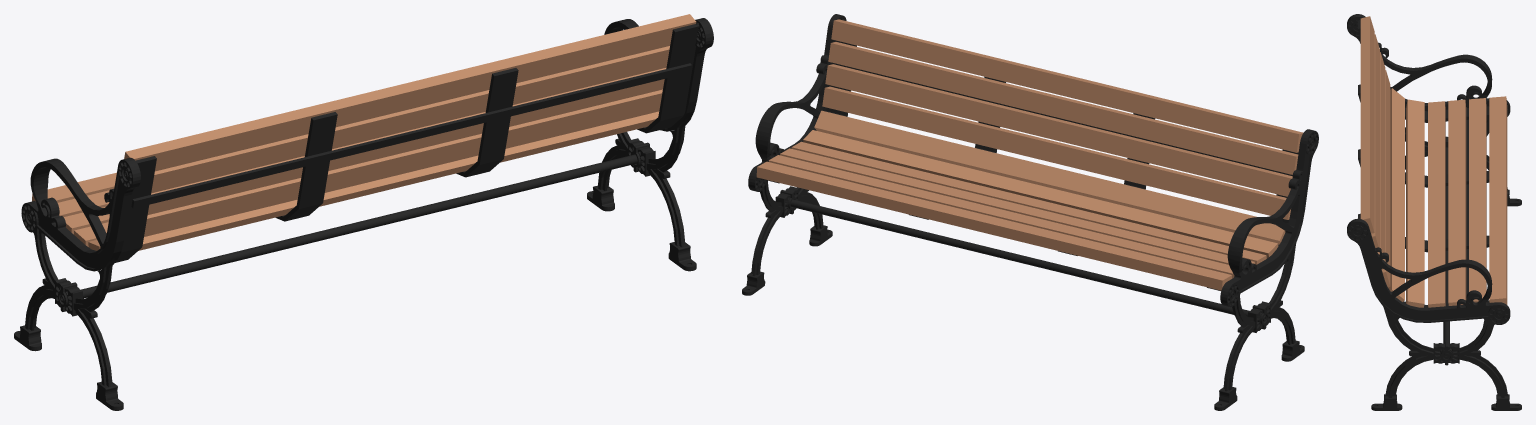
The picture shows the model from 3 angles, left to right: view 1: azimuth 30°, elevation 25°; view 2: azimuth 150°, elevation 25°; view 3: azimuth 270°, elevation 25°; orthographic projection. The views are drawn at different scales.
Parts seen in each view (by area): view 1: mesh5_mesh5-geometry, mesh135_mesh135-geometry, mesh138_mesh138-geometry, mesh136_mesh136-geometry, mesh144_mesh144-geometry, mesh137_mesh137-geometry, mesh155_mesh155-geometry, mesh133_mesh133-geometry, mesh157_mesh157-geometry, mesh158_mesh158-geometry, mesh159_mesh159-geometry, mesh160_mesh160-geometry (+1 smaller); view 2: mesh5_mesh5-geometry, mesh135_mesh135-geometry, mesh136_mesh136-geometry, mesh137_mesh137-geometry, mesh138_mesh138-geometry, mesh144_mesh144-geometry, mesh139_mesh139-geometry, mesh143_mesh143-geometry, mesh140_mesh140-geometry, mesh142_mesh142-geometry, mesh141_mesh141-geometry, mesh133_mesh133-geometry (+1 smaller); view 3: mesh5_mesh5-geometry, mesh139_mesh139-geometry, mesh141_mesh141-geometry, mesh143_mesh143-geometry, mesh142_mesh142-geometry, mesh140_mesh140-geometry, mesh135_mesh135-geometry, mesh144_mesh144-geometry, mesh136_mesh136-geometry, mesh138_mesh138-geometry, mesh137_mesh137-geometry, mesh133_mesh133-geometry (+4 smaller).
Boxes of the visible parts, box(x1,y1,x2,y2) form: mesh5_mesh5-geometry: box(14, 18, 713, 410); mesh135_mesh135-geometry: box(124, 14, 696, 171); mesh138_mesh138-geometry: box(144, 89, 662, 236); mesh136_mesh136-geometry: box(151, 46, 669, 193); mesh144_mesh144-geometry: box(138, 111, 659, 250); mesh137_mesh137-geometry: box(147, 68, 666, 214); mesh155_mesh155-geometry: box(131, 63, 691, 208); mesh133_mesh133-geometry: box(80, 154, 637, 298); mesh157_mesh157-geometry: box(637, 24, 699, 133); mesh158_mesh158-geometry: box(456, 68, 518, 177); mesh159_mesh159-geometry: box(275, 112, 337, 221); mesh160_mesh160-geometry: box(115, 156, 156, 262); mesh5_mesh5-geometry: box(742, 14, 1318, 410); mesh135_mesh135-geometry: box(831, 19, 1303, 152); mesh136_mesh136-geometry: box(828, 42, 1298, 174); mesh137_mesh137-geometry: box(825, 64, 1292, 196); mesh138_mesh138-geometry: box(822, 86, 1290, 219); mesh144_mesh144-geometry: box(814, 110, 1285, 244); mesh139_mesh139-geometry: box(756, 161, 1231, 290); mesh143_mesh143-geometry: box(803, 130, 1278, 258); mesh140_mesh140-geometry: box(768, 155, 1234, 278); mesh142_mesh142-geometry: box(791, 141, 1266, 264); mesh141_mesh141-geometry: box(780, 148, 1254, 264); mesh133_mesh133-geometry: box(790, 199, 1249, 316); mesh5_mesh5-geometry: box(1347, 14, 1521, 410); mesh139_mesh139-geometry: box(1489, 96, 1507, 304); mesh141_mesh141-geometry: box(1448, 99, 1466, 305); mesh143_mesh143-geometry: box(1406, 99, 1424, 307); mesh142_mesh142-geometry: box(1428, 101, 1445, 307); mesh140_mesh140-geometry: box(1469, 98, 1486, 302); mesh135_mesh135-geometry: box(1360, 16, 1374, 233); mesh144_mesh144-geometry: box(1388, 88, 1404, 301); mesh136_mesh136-geometry: box(1371, 34, 1379, 247); mesh138_mesh138-geometry: box(1382, 70, 1390, 287); mesh137_mesh137-geometry: box(1377, 52, 1385, 269); mesh133_mesh133-geometry: box(1443, 147, 1449, 343).
Bounding box in the file's own units: 0.8771 × 0.3683 × 0.3083.
